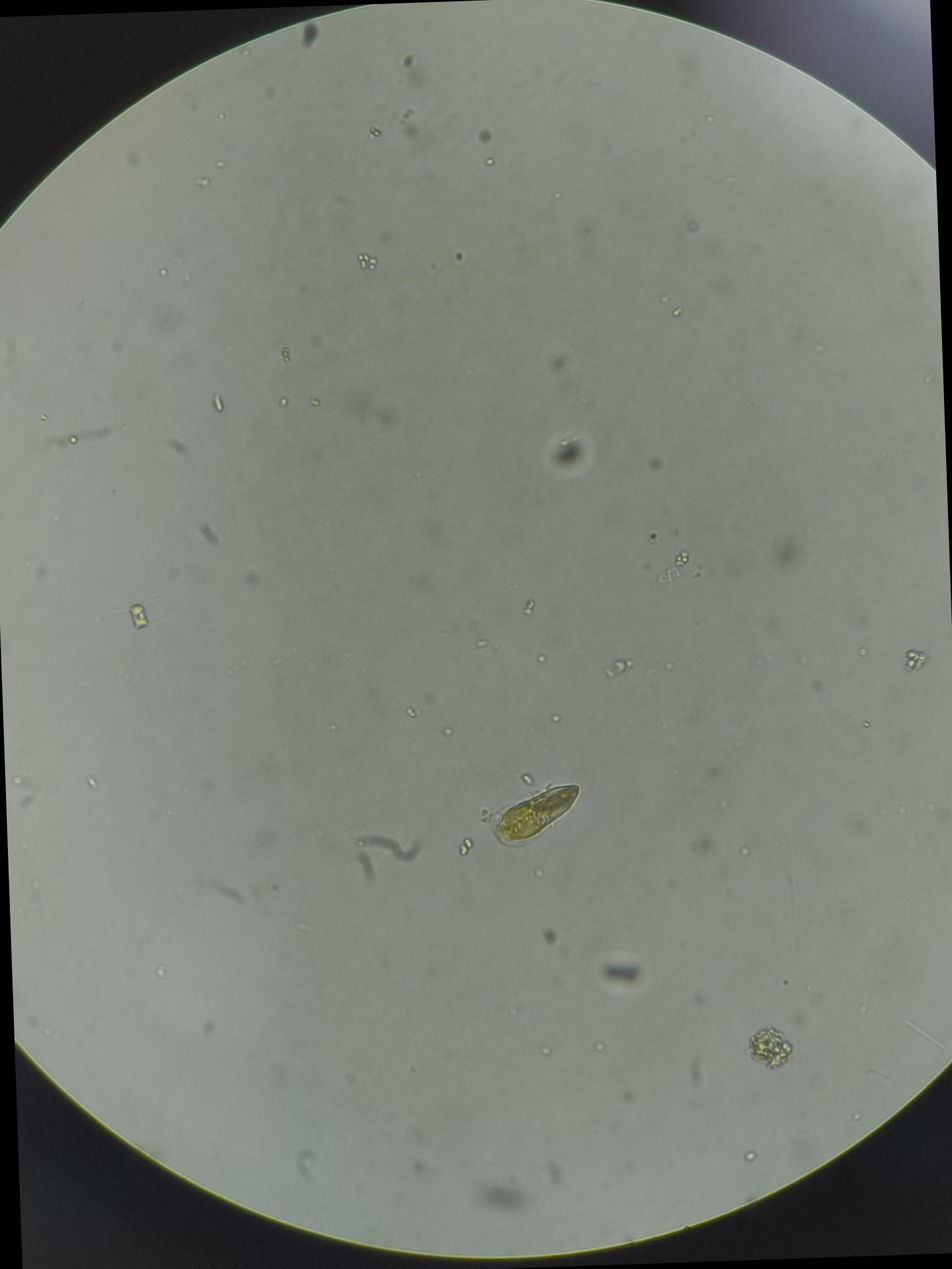Euglena: (481, 775, 589, 854)
